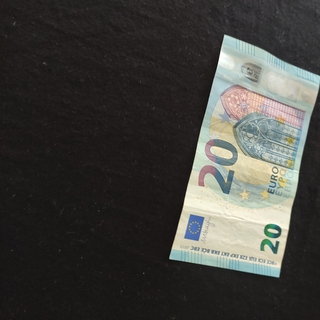20EUROFront: (168, 33, 320, 278)
